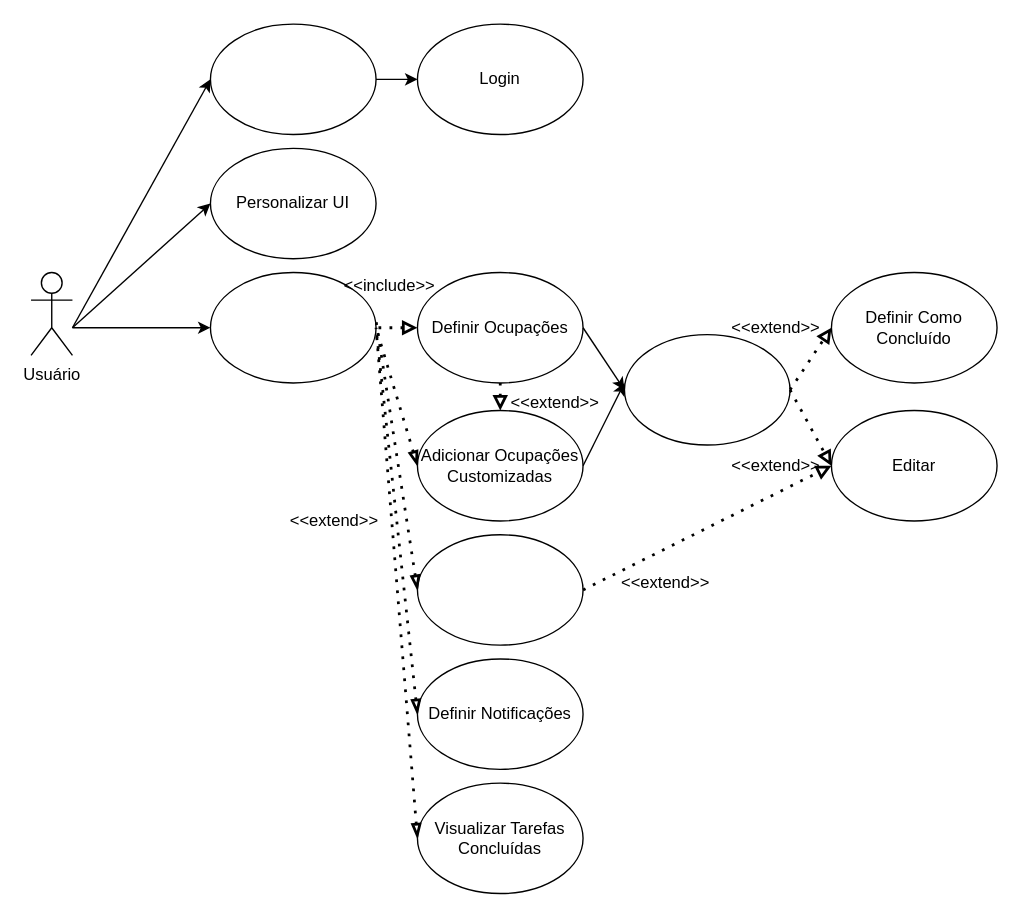
This 1021x918 diagram has some shape labels left out. Each missing label, with the centre of its shape:
Cadastrar: (292,79)
Criar Nova Rotina: (292,327)
Definir Lembretes: (499,589)
Definir Período da Ocupação: (706,389)
